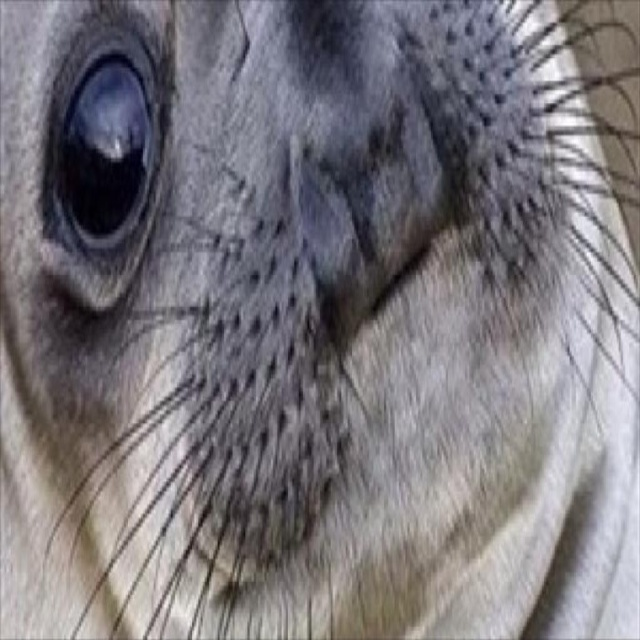Harbor seal: (27, 0, 640, 638)
